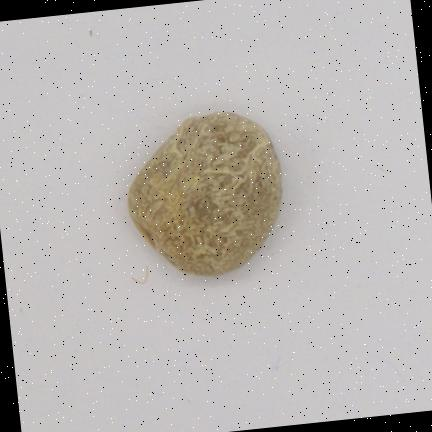immature: (129, 112, 281, 275)
